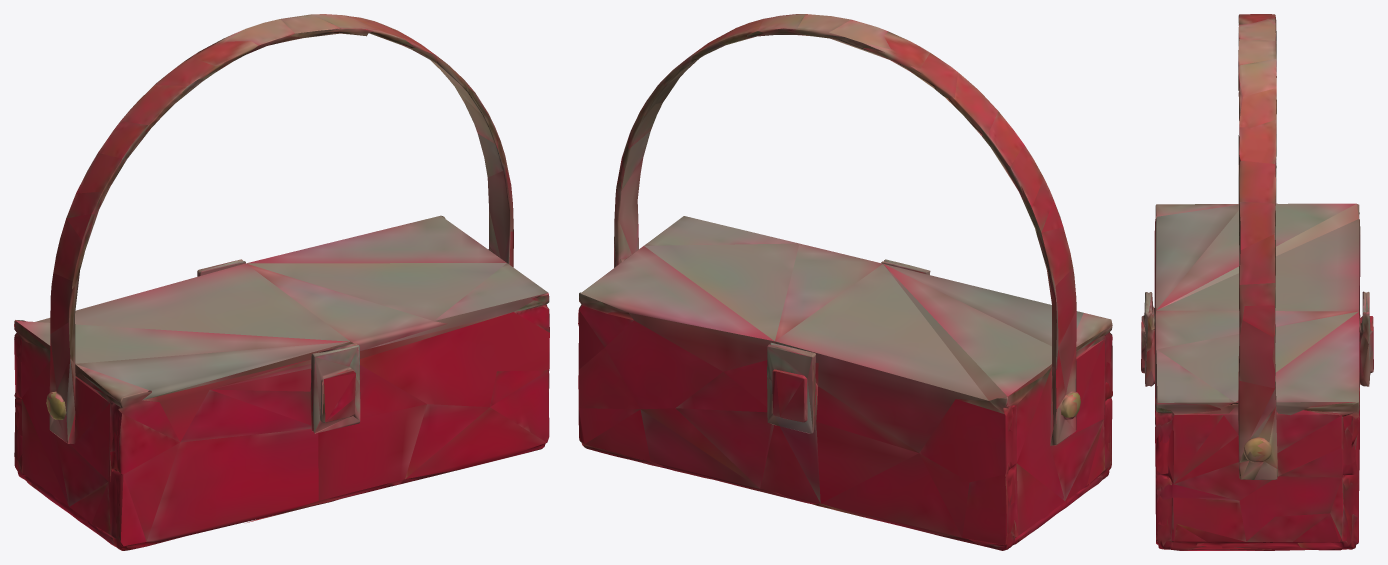
The model's file is token_toolbox_v1.glb.
3 views of the same model, side by side, from view 1: azimuth 30°, elevation 25°; view 2: azimuth 150°, elevation 25°; view 3: azimuth 270°, elevation 25° (orthographic). The views are drawn at different scales.
Parts seen in each view (by area): view 1: mesh_node; view 2: mesh_node; view 3: mesh_node.
Part boxes in pixels (x1,y1,x2,y2): mesh_node: [14, 14, 549, 550]; mesh_node: [578, 14, 1112, 550]; mesh_node: [1141, 14, 1373, 550].
Size of the model in its own units: 0.7769 by 0.7 by 0.3551.
1 material, 1 textured.
